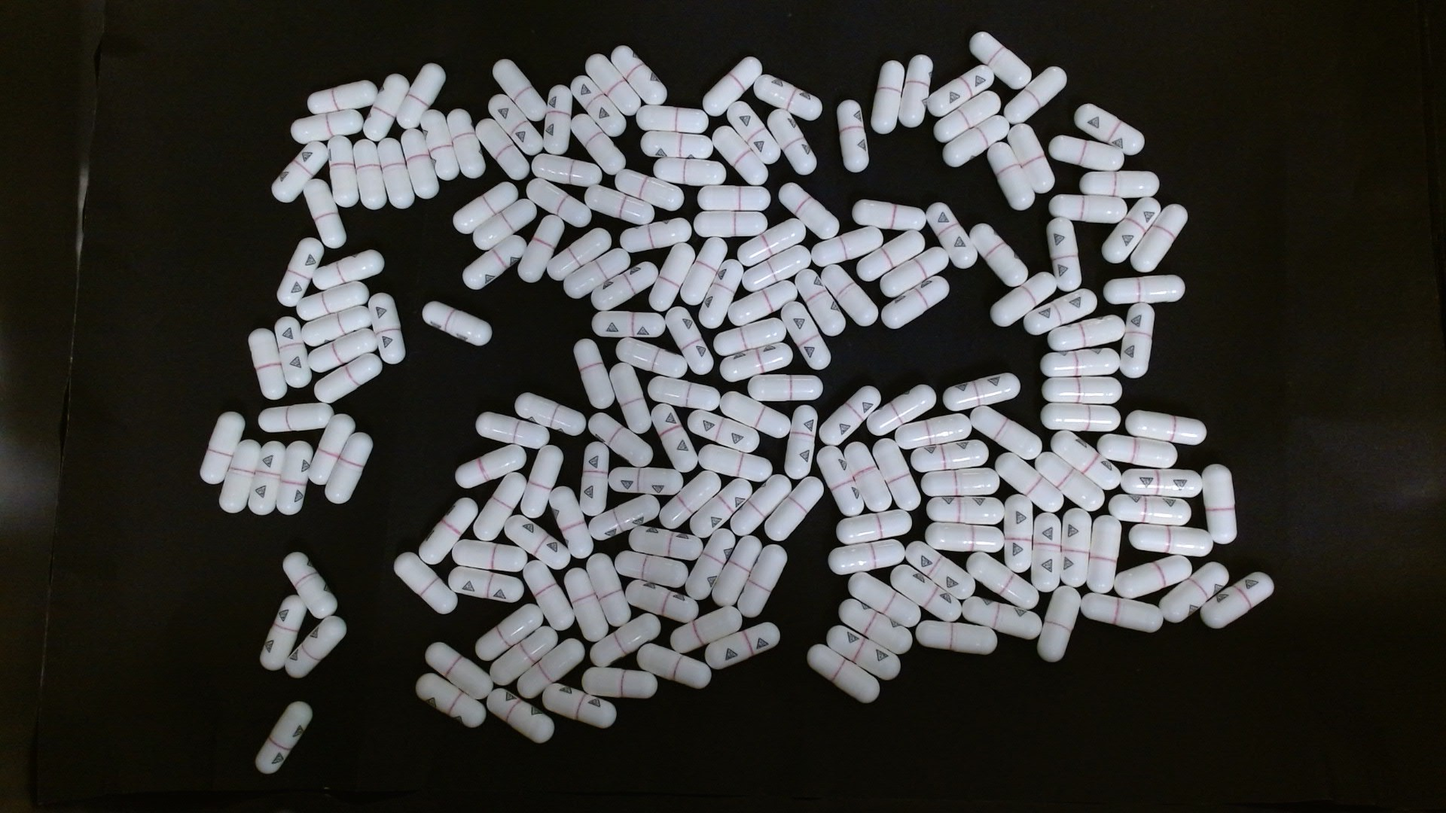Capsule: (969, 405, 1050, 467), (1100, 194, 1165, 269), (805, 641, 881, 704), (723, 473, 794, 540), (413, 496, 480, 566), (1046, 429, 1122, 490), (515, 636, 587, 700), (1158, 561, 1233, 622), (488, 624, 559, 687), (825, 625, 902, 683), (966, 550, 1038, 612), (904, 540, 977, 601), (254, 700, 313, 775), (847, 570, 923, 628), (518, 559, 578, 632), (889, 564, 963, 623), (837, 598, 912, 656), (1199, 571, 1273, 629), (471, 469, 529, 543), (763, 474, 825, 543), (794, 268, 855, 338), (1032, 450, 1103, 510), (423, 642, 495, 701), (391, 550, 456, 615), (1128, 202, 1187, 273), (688, 476, 755, 538), (699, 621, 782, 671), (283, 614, 347, 678), (685, 527, 740, 601), (708, 534, 763, 608), (475, 603, 545, 661), (415, 672, 486, 729), (660, 467, 726, 528), (988, 270, 1058, 327), (818, 265, 881, 328), (461, 233, 529, 291), (493, 59, 551, 127), (1022, 288, 1099, 339), (271, 140, 332, 204), (966, 221, 1027, 285), (821, 385, 885, 446), (877, 246, 949, 300), (505, 514, 572, 572), (780, 298, 833, 371), (737, 542, 789, 616), (562, 567, 614, 641), (1072, 102, 1146, 154), (871, 438, 923, 512), (276, 236, 328, 310), (549, 226, 614, 285), (880, 275, 951, 329), (984, 138, 1035, 213), (960, 595, 1043, 641), (588, 614, 660, 667), (313, 353, 385, 406), (451, 180, 519, 236), (734, 218, 810, 268), (865, 384, 938, 436), (282, 550, 337, 619), (562, 246, 631, 301), (607, 358, 655, 437), (1003, 66, 1066, 126), (970, 30, 1033, 90), (647, 241, 698, 315), (778, 181, 843, 239), (724, 100, 781, 166), (853, 230, 928, 280), (517, 444, 565, 522), (842, 441, 894, 513), (664, 306, 716, 378), (930, 90, 1002, 142), (485, 687, 553, 742), (927, 63, 996, 117), (513, 391, 589, 440), (323, 431, 374, 504), (588, 412, 652, 470), (587, 494, 661, 544), (259, 594, 307, 671), (1114, 553, 1194, 599), (305, 326, 380, 375), (815, 443, 865, 516), (993, 450, 1057, 507), (570, 74, 627, 138), (585, 52, 641, 117), (678, 235, 729, 306), (924, 199, 978, 266), (712, 124, 770, 186), (488, 93, 544, 157), (517, 210, 566, 283), (698, 258, 746, 332), (471, 197, 538, 250), (718, 393, 795, 439), (741, 244, 813, 293), (1079, 592, 1161, 635), (527, 178, 596, 229), (590, 260, 659, 311), (547, 486, 595, 559), (943, 114, 1009, 167), (586, 551, 632, 627), (395, 64, 447, 131), (670, 607, 744, 654), (475, 116, 529, 180), (307, 414, 355, 486), (543, 683, 618, 729), (703, 56, 761, 115), (199, 411, 244, 487), (766, 108, 817, 175), (422, 300, 496, 346), (1036, 586, 1079, 665), (636, 644, 713, 688), (456, 443, 528, 490), (572, 337, 617, 412), (624, 579, 699, 624), (1005, 123, 1053, 193), (302, 178, 348, 251), (612, 46, 666, 108), (809, 225, 884, 269), (363, 72, 412, 139), (941, 370, 1021, 411), (296, 279, 374, 321), (614, 169, 690, 212), (569, 111, 624, 170), (650, 404, 697, 473), (583, 184, 660, 226), (913, 620, 998, 658), (1051, 135, 1136, 173), (218, 439, 261, 514), (614, 337, 689, 380), (729, 277, 799, 323), (578, 665, 658, 705), (754, 73, 822, 120), (687, 411, 762, 453), (1127, 522, 1216, 557), (1200, 462, 1237, 546), (300, 304, 374, 346), (418, 109, 460, 183), (310, 250, 384, 292), (1094, 434, 1180, 470), (446, 565, 525, 604), (833, 509, 914, 547), (1124, 409, 1207, 446), (247, 326, 287, 402), (247, 440, 287, 516), (613, 548, 689, 588), (450, 538, 527, 577), (895, 413, 972, 452), (275, 440, 315, 514), (399, 125, 439, 199), (829, 538, 908, 575), (647, 373, 718, 414), (1046, 217, 1084, 293), (717, 317, 793, 355), (721, 342, 795, 381), (1045, 315, 1123, 352), (377, 136, 416, 210), (1118, 303, 1156, 378), (699, 443, 770, 483), (477, 413, 552, 450), (1112, 493, 1195, 526), (530, 152, 601, 190), (1087, 516, 1122, 593), (617, 217, 694, 252), (446, 108, 485, 177), (1118, 467, 1204, 498), (274, 314, 310, 388), (785, 406, 820, 482), (627, 524, 697, 562), (898, 53, 933, 129), (1104, 273, 1184, 306), (368, 292, 405, 363), (1059, 506, 1091, 588), (306, 78, 378, 114), (290, 108, 364, 143), (924, 521, 1004, 553), (1078, 169, 1166, 198), (609, 466, 676, 504), (592, 309, 666, 343), (1032, 512, 1063, 593), (1043, 374, 1121, 406), (1041, 401, 1119, 433), (1051, 192, 1128, 224), (746, 371, 822, 403), (578, 440, 610, 516), (924, 495, 1005, 525), (871, 61, 905, 132), (353, 140, 387, 211), (697, 184, 770, 217), (259, 401, 334, 433), (920, 467, 1000, 497), (851, 198, 923, 231), (651, 155, 725, 187), (915, 439, 989, 471), (639, 129, 712, 161), (1041, 349, 1118, 379), (1002, 498, 1033, 572), (636, 105, 709, 136), (541, 87, 575, 153), (837, 100, 868, 171), (691, 208, 762, 239), (328, 137, 358, 208)
